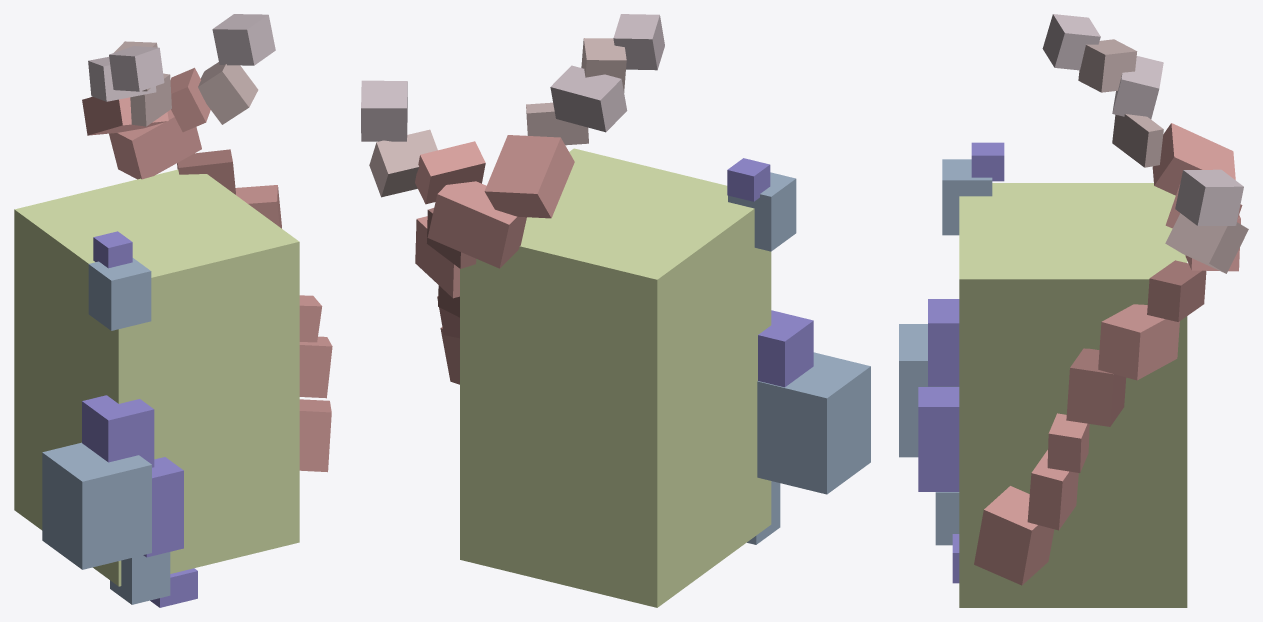
The model's file is 04_20 sky env.fbx.
The picture shows the model from 3 angles, left to right: view 1: azimuth 30°, elevation 25°; view 2: azimuth 150°, elevation 25°; view 3: azimuth 270°, elevation 25°; orthographic projection. The views are drawn at different scales.
Parts seen in each view (by area): view 1: sky_env; view 2: sky_env; view 3: sky_env.
Boxes of the visible parts, x1,y1,x2,y2 form: sky_env: (14, 14, 332, 607); sky_env: (361, 14, 870, 607); sky_env: (899, 14, 1248, 607).
Size of the model in its own units: 9.13 by 13.55 by 7.67.
